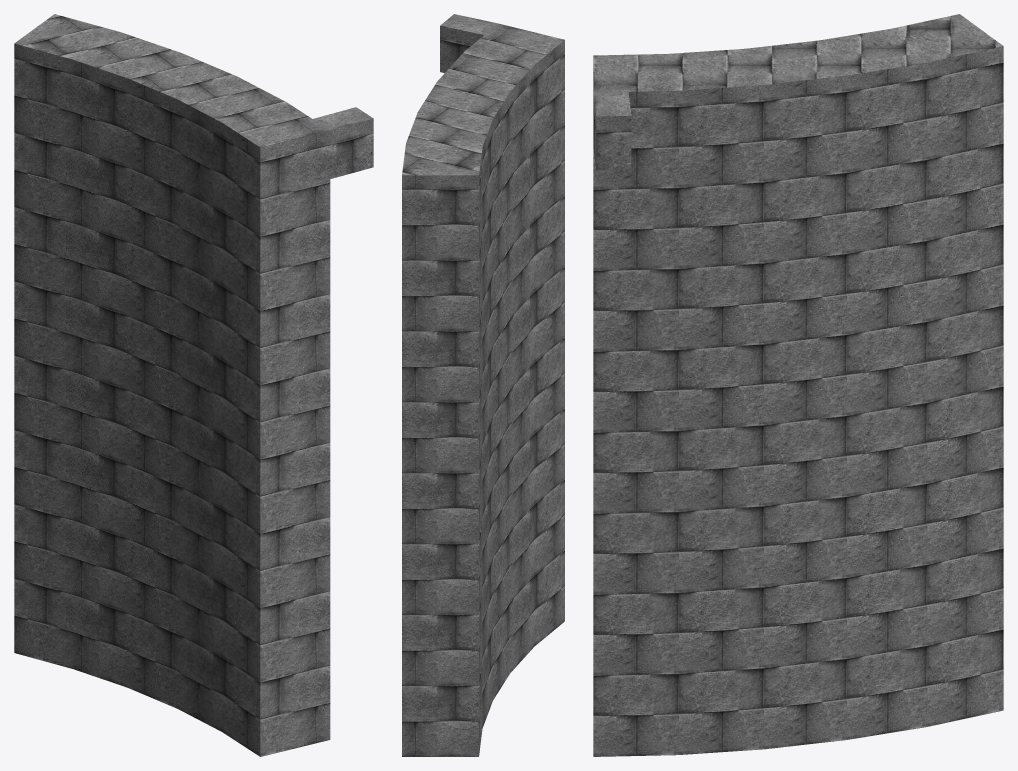
File: tile10.dae
3 renders of one model, left to right at view 1: azimuth 30°, elevation 25°; view 2: azimuth 150°, elevation 25°; view 3: azimuth 270°, elevation 25°, orthographic. The views are drawn at different scales.
Parts seen in each view (by area): view 1: SketchUp; view 2: SketchUp; view 3: SketchUp.
Boxes of the visible parts, x1=… form: SketchUp: x1=14, y1=14, x2=373, y2=756; SketchUp: x1=402, y1=14, x2=564, y2=756; SketchUp: x1=593, y1=14, x2=1003, y2=756.
Bounding box in the file's own units: 32.59 × 55.12 × 98.43.
1 material, 1 textured.
